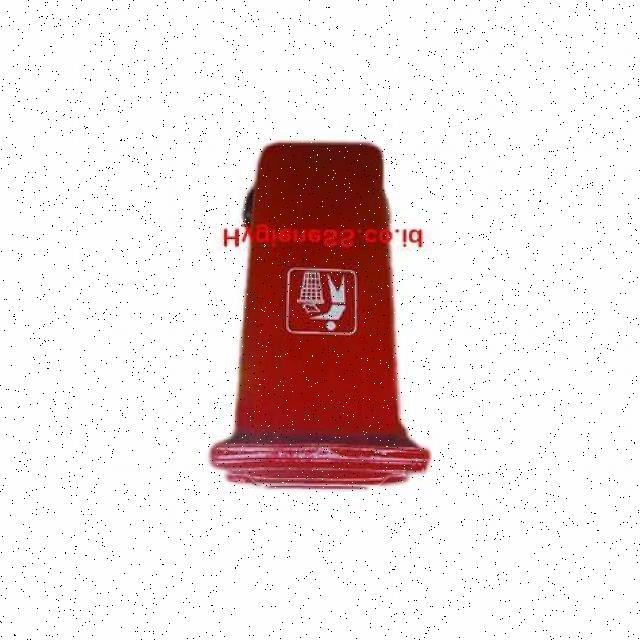garbage container: (199, 59, 505, 520)
